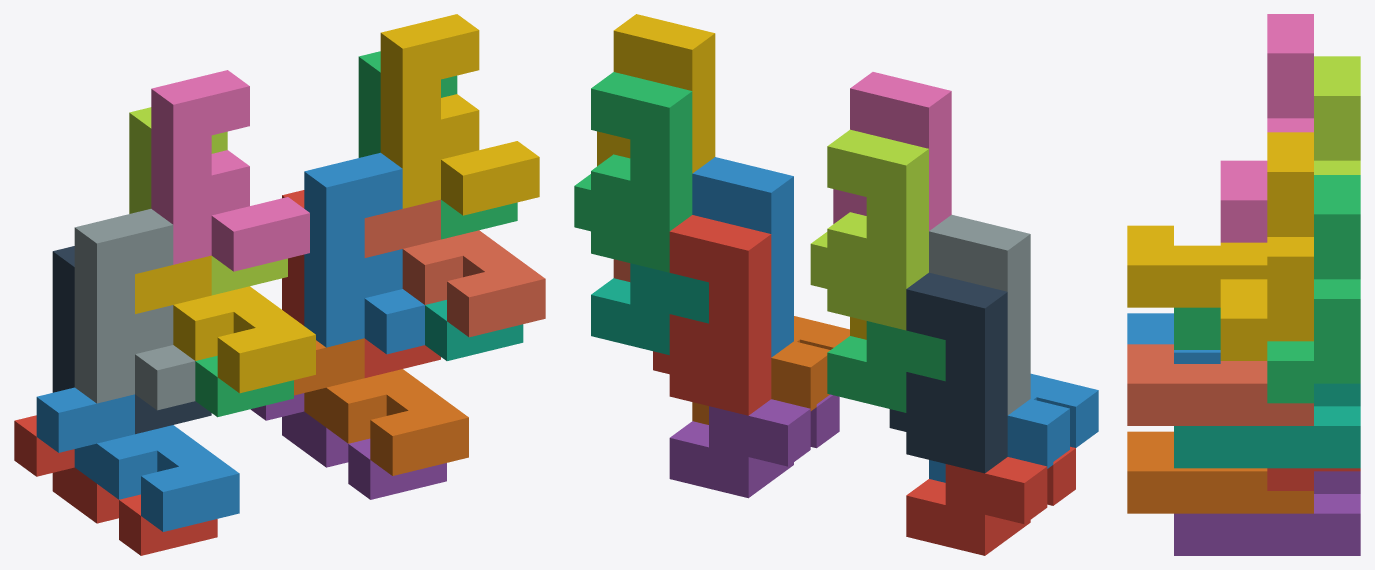
The model's file is tiling.obj.
3 views of the same model, side by side, from view 1: azimuth 30°, elevation 25°; view 2: azimuth 150°, elevation 25°; view 3: azimuth 270°, elevation 25° (orthographic). The views are drawn at different scales.
Parts seen in each view (by area): view 1: copy_2_domain_8, copy_2_domain_4, copy_2_domain_2, copy_2_domain_6, copy_1_domain_2, copy_1_domain_8, copy_1_domain_4, copy_1_domain_6, copy_1_domain_1, copy_1_domain_5, copy_2_domain_1, copy_2_domain_3 (+4 smaller); view 2: copy_2_domain_3, copy_2_domain_7, copy_2_domain_5, copy_2_domain_1, copy_1_domain_1, copy_1_domain_5, copy_2_domain_2, copy_2_domain_6, copy_2_domain_8, copy_2_domain_4, copy_1_domain_3, copy_1_domain_7 (+2 smaller); view 3: copy_2_domain_8, copy_2_domain_7, copy_1_domain_8, copy_1_domain_7, copy_1_domain_5, copy_2_domain_4, copy_1_domain_6, copy_1_domain_4, copy_2_domain_3, copy_1_domain_2, copy_1_domain_3, copy_2_domain_5.
Boxes of the visible parts, box(x1,y1,x2,y2) form: copy_2_domain_8: box(380, 14, 539, 215); copy_2_domain_4: box(151, 70, 309, 271); copy_2_domain_2: box(74, 209, 195, 410); copy_2_domain_6: box(304, 152, 424, 354); copy_1_domain_2: box(36, 387, 239, 531); copy_1_domain_8: box(364, 199, 545, 337); copy_1_domain_4: box(135, 255, 315, 393); copy_1_domain_6: box(294, 338, 468, 475); copy_1_domain_1: box(14, 415, 217, 555); copy_1_domain_5: box(250, 393, 446, 499); copy_2_domain_1: box(52, 246, 211, 434); copy_2_domain_3: box(129, 107, 287, 295); copy_2_domain_3: box(810, 129, 928, 330); copy_2_domain_7: box(574, 72, 692, 272); copy_2_domain_5: box(653, 215, 771, 415); copy_2_domain_1: box(889, 272, 1007, 473); copy_1_domain_1: box(906, 446, 1075, 555); copy_1_domain_5: box(669, 394, 839, 498); copy_2_domain_2: box(929, 215, 1030, 415); copy_2_domain_6: box(692, 157, 793, 357); copy_2_domain_8: box(597, 14, 715, 173); copy_2_domain_4: box(833, 72, 951, 230); copy_1_domain_3: box(827, 321, 945, 412); copy_1_domain_7: box(591, 263, 708, 355); copy_2_domain_8: box(1220, 132, 1313, 360); copy_2_domain_7: box(1267, 175, 1360, 403); copy_1_domain_8: box(1127, 344, 1313, 425); copy_1_domain_7: box(1174, 383, 1360, 468); copy_1_domain_5: box(1174, 471, 1360, 555); copy_2_domain_4: box(1220, 14, 1313, 242); copy_1_domain_6: box(1127, 431, 1313, 513); copy_1_domain_4: box(1127, 225, 1267, 307); copy_2_domain_3: box(1314, 56, 1360, 174); copy_1_domain_2: box(1127, 313, 1220, 363); copy_1_domain_3: box(1174, 307, 1220, 349); copy_2_domain_5: box(1267, 468, 1360, 490).
Size of the model in its own units: 12 by 10 by 5.
